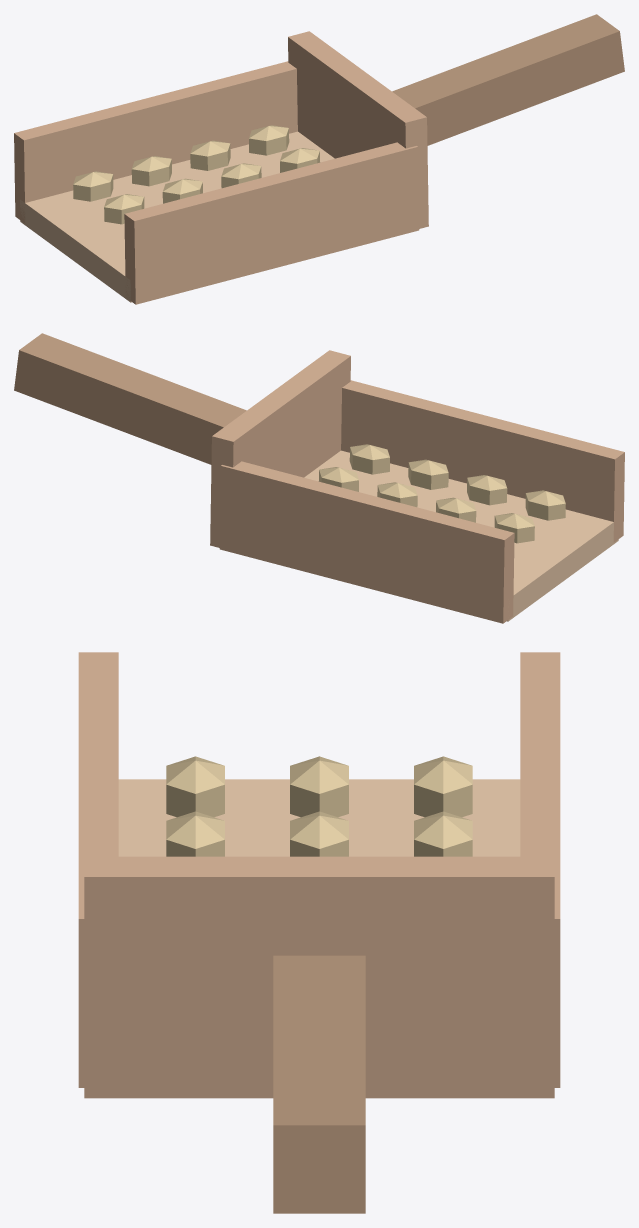
The model's file is crafted-tool-feed-scoop-3.glb.
The picture shows the model from 3 angles, top to bottom: view 1: azimuth 30°, elevation 25°; view 2: azimuth 150°, elevation 25°; view 3: azimuth 270°, elevation 25°; orthographic projection. The views are drawn at different scales.
Parts seen in each view (by area): view 1: side-1, side, handle, back, floor, grain-2, grain, grain-1, grain-3, grain-4, grain-6, grain-5 (+1 smaller); view 2: side, side-1, handle, back, floor, grain-10, grain-8, grain-9, grain-11, grain-4, grain-6, grain-5 (+1 smaller); view 3: back, handle, floor, side, side-1, grain-4, grain, grain-8, grain-1, grain-9, grain-5.
Part boxes in pixels (x1,y1,x2,y2): side-1: [124, 142, 419, 304]; side: [14, 61, 297, 223]; handle: [392, 14, 624, 145]; back: [288, 31, 428, 228]; floor: [20, 131, 334, 302]; grain-2: [190, 140, 230, 170]; grain: [73, 171, 113, 201]; grain-1: [131, 156, 171, 186]; grain-3: [249, 125, 289, 155]; grain-4: [104, 194, 144, 224]; grain-6: [221, 163, 261, 188]; grain-5: [162, 178, 202, 203]; side: [219, 461, 514, 623]; side-1: [341, 380, 624, 542]; handle: [14, 333, 246, 464]; back: [210, 350, 350, 547]; floor: [304, 450, 618, 621]; grain-10: [408, 459, 448, 489]; grain-8: [525, 490, 565, 520]; grain-9: [467, 475, 507, 505]; grain-11: [349, 444, 389, 474]; grain-4: [494, 513, 534, 543]; grain-6: [377, 482, 417, 507]; grain-5: [436, 497, 476, 522]; back: [84, 856, 554, 1098]; handle: [273, 955, 365, 1213]; floor: [118, 779, 520, 856]; side: [520, 652, 560, 1087]; side-1: [78, 652, 118, 1087]; grain-4: [290, 756, 348, 817]; grain: [414, 756, 472, 817]; grain-8: [166, 756, 224, 817]; grain-1: [414, 811, 472, 856]; grain-9: [166, 811, 224, 856]; grain-5: [290, 811, 348, 856].
Size of the model in its own units: 0.8742 by 0.1808 by 0.338.
